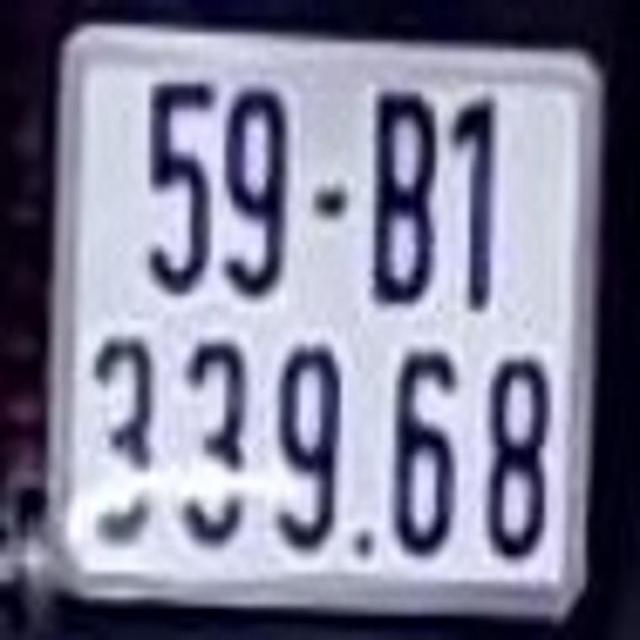1: (452, 95, 506, 316)
3: (182, 340, 252, 543), (96, 343, 157, 547)
5: (147, 80, 212, 290)
6: (385, 341, 458, 560)
8: (488, 359, 548, 564)
9: (270, 348, 340, 548), (223, 84, 284, 300)
B: (376, 92, 436, 300)
